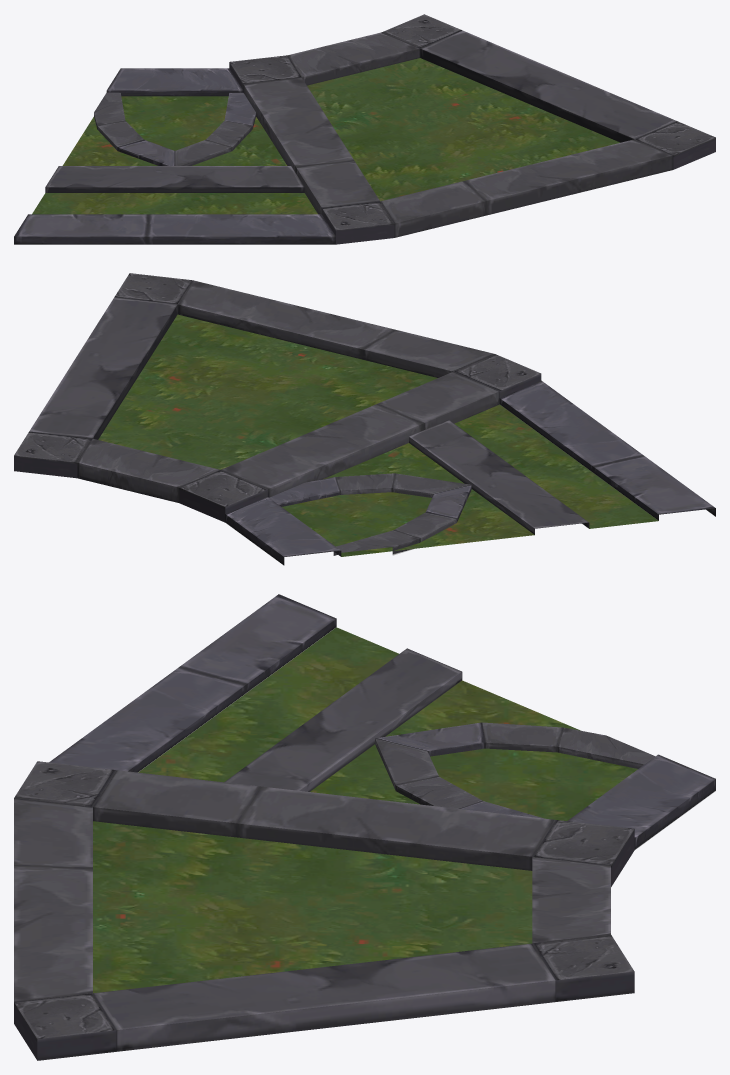
Rendered from cs_zhucheng_huatanwaiwei_001.FBX.
3 views of the same model, one above another, from view 1: azimuth 30°, elevation 25°; view 2: azimuth 150°, elevation 25°; view 3: azimuth 270°, elevation 25° (orthographic). The views are drawn at different scales.
Parts seen in each view (by area): view 1: cs_zhucheng_huatanwaiwei_001; view 2: cs_zhucheng_huatanwaiwei_001; view 3: cs_zhucheng_huatanwaiwei_001.
Boxes of the visible parts, bbox=[...] form: cs_zhucheng_huatanwaiwei_001: bbox=[14, 14, 715, 244]; cs_zhucheng_huatanwaiwei_001: bbox=[14, 273, 715, 565]; cs_zhucheng_huatanwaiwei_001: bbox=[14, 594, 715, 1060].
Size of the model in its own units: 245 by 160 by 6.2.
